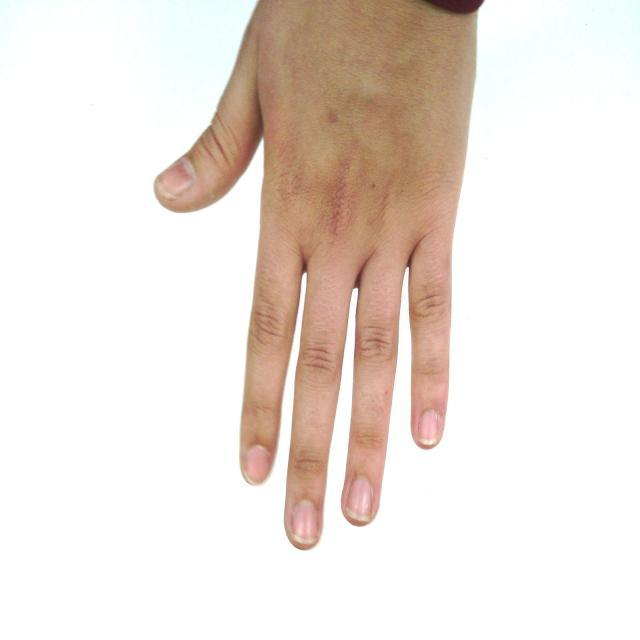Fingernail: (158, 161, 193, 198), (345, 476, 373, 521), (292, 500, 318, 545), (245, 446, 270, 483), (418, 410, 439, 444)
